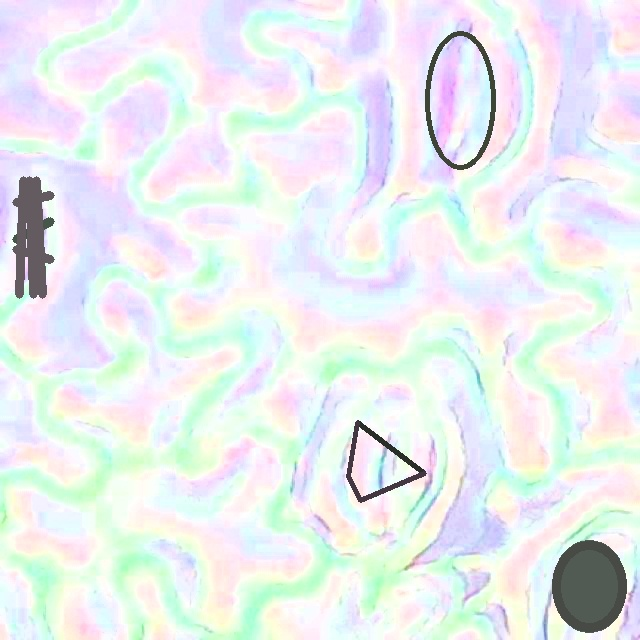open: (424, 30, 496, 169), (552, 540, 626, 633), (346, 420, 426, 501), (12, 176, 53, 298)
